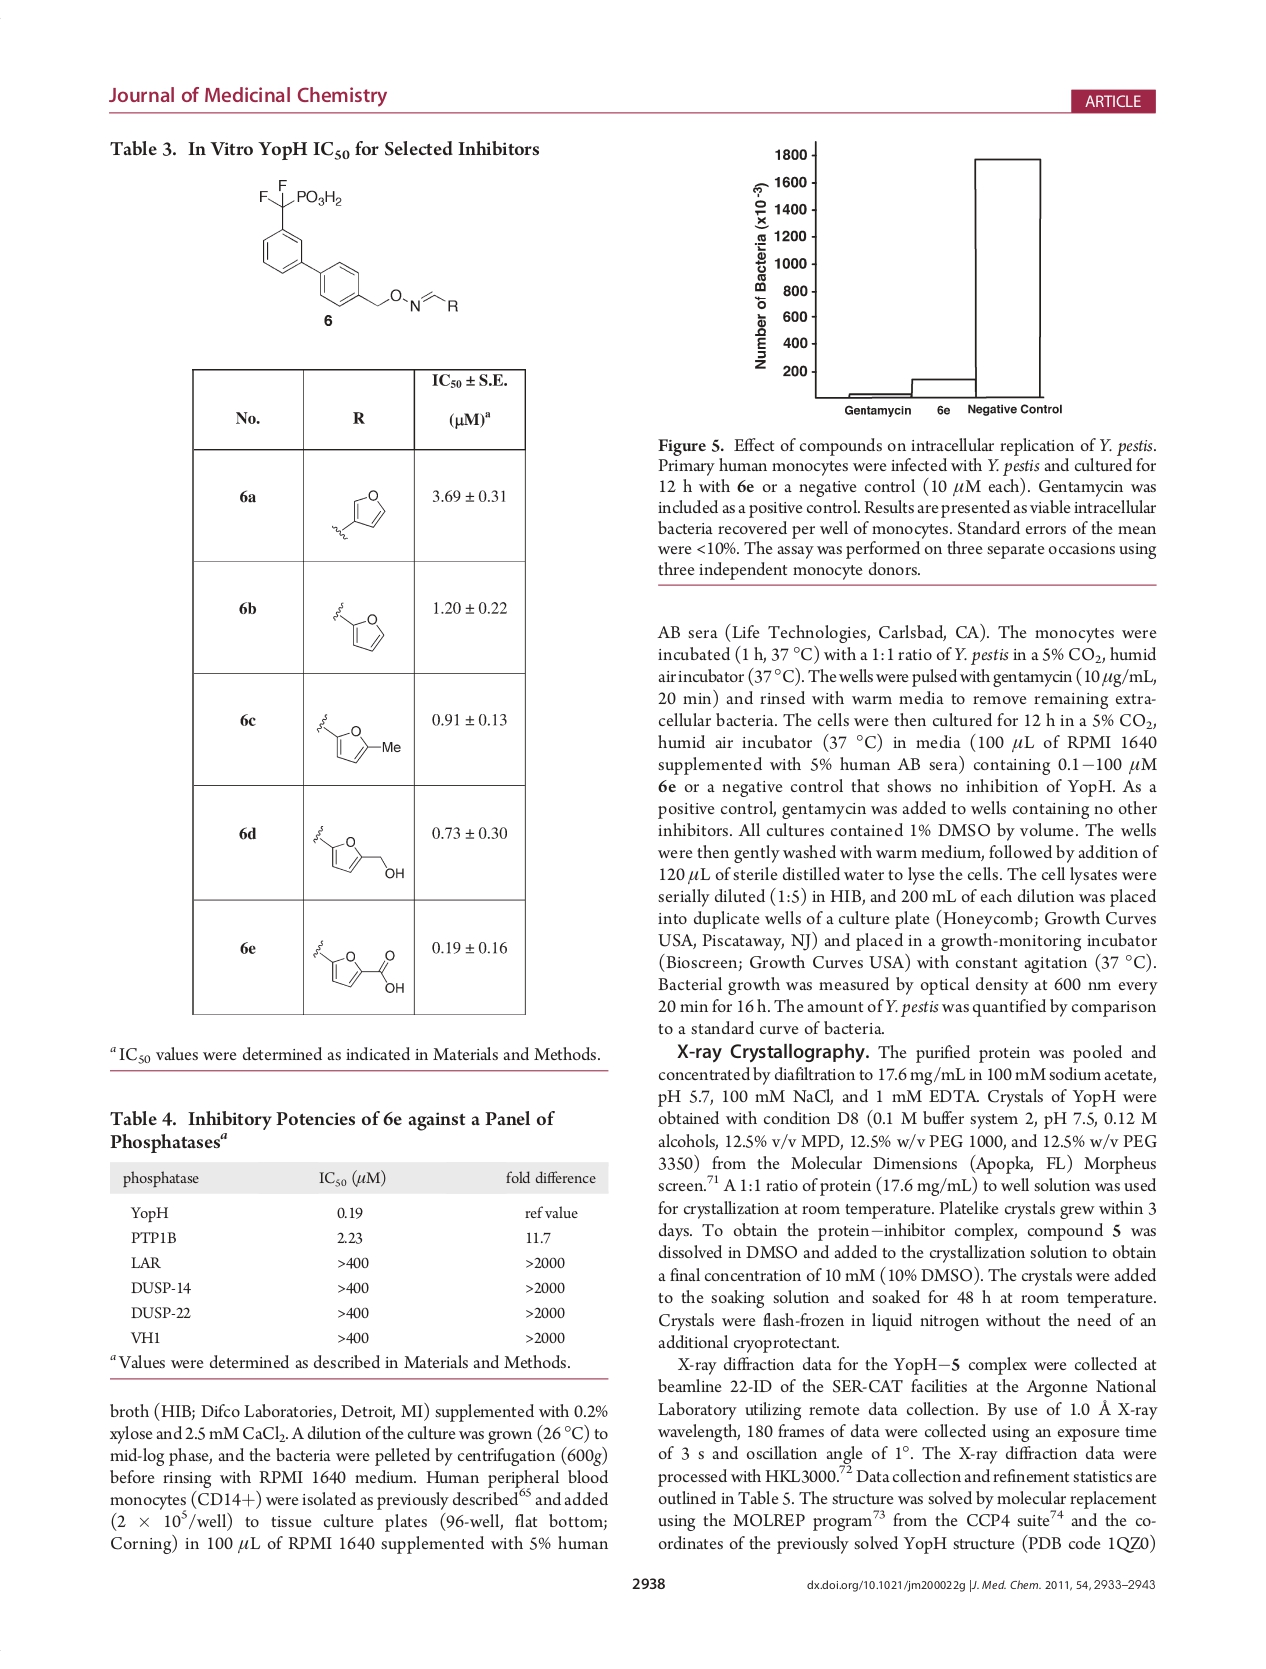exist_molecular: (251, 173, 461, 314), (309, 817, 408, 886), (310, 932, 410, 1000), (313, 707, 404, 767), (328, 481, 390, 543), (324, 598, 390, 652)
